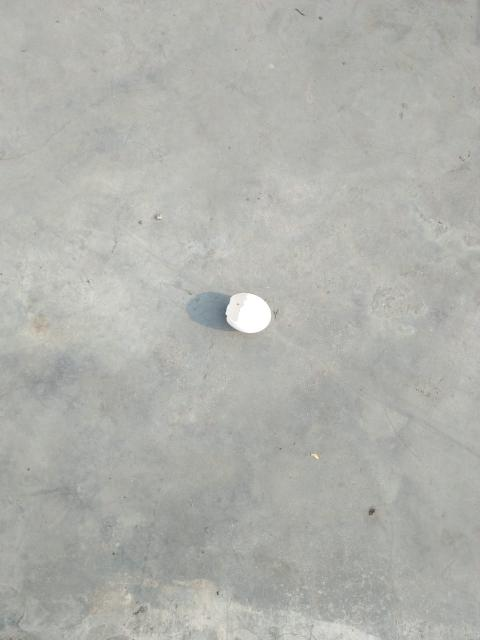Roto: (224, 292, 271, 334)
